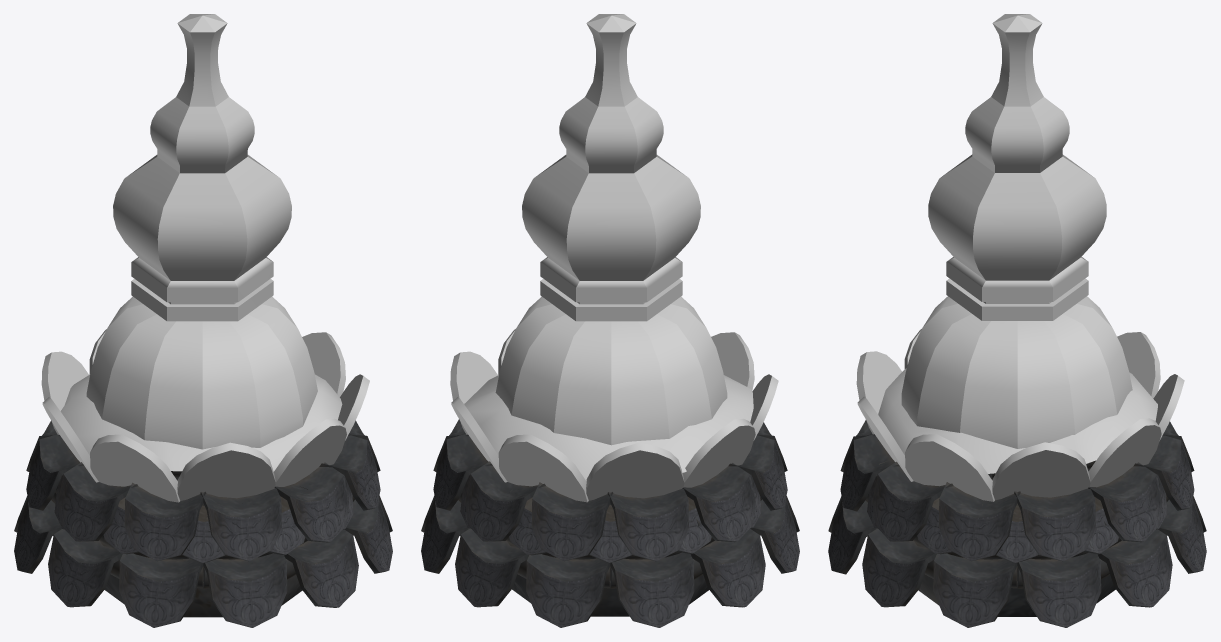
The model's file is SM_RoofOrnament04D.fbx.
3 renders of one model, left to right at view 1: azimuth 30°, elevation 25°; view 2: azimuth 150°, elevation 25°; view 3: azimuth 270°, elevation 25°, orthographic.
Visible parts, largest first — view 1: SM_RoofOrnament04D; view 2: SM_RoofOrnament04D; view 3: SM_RoofOrnament04D.
Boxes of the visible parts, x1,y1,x2,y2 form: SM_RoofOrnament04D: (14,14,392,627); SM_RoofOrnament04D: (421,14,799,627); SM_RoofOrnament04D: (828,14,1206,627).
Bounding box in the file's own units: 130 × 130 × 211.
